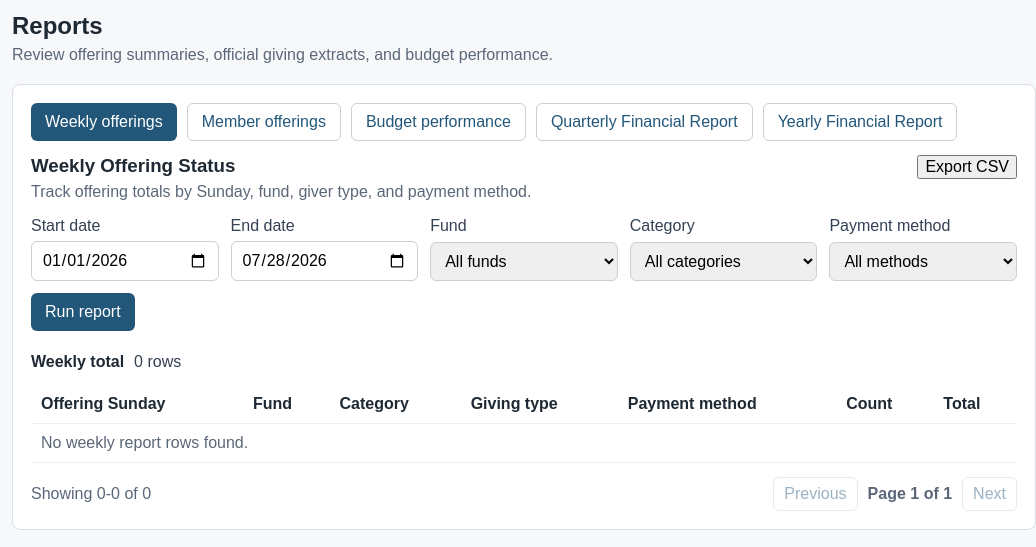
Test: ReportsView › shows quarterly workbook download failures
What coordinates should you click on to do the following:
click the tab "Quarterly Financial Report"
I would click on:
 (644, 122)
Its box is 536,103 -> 753,141.
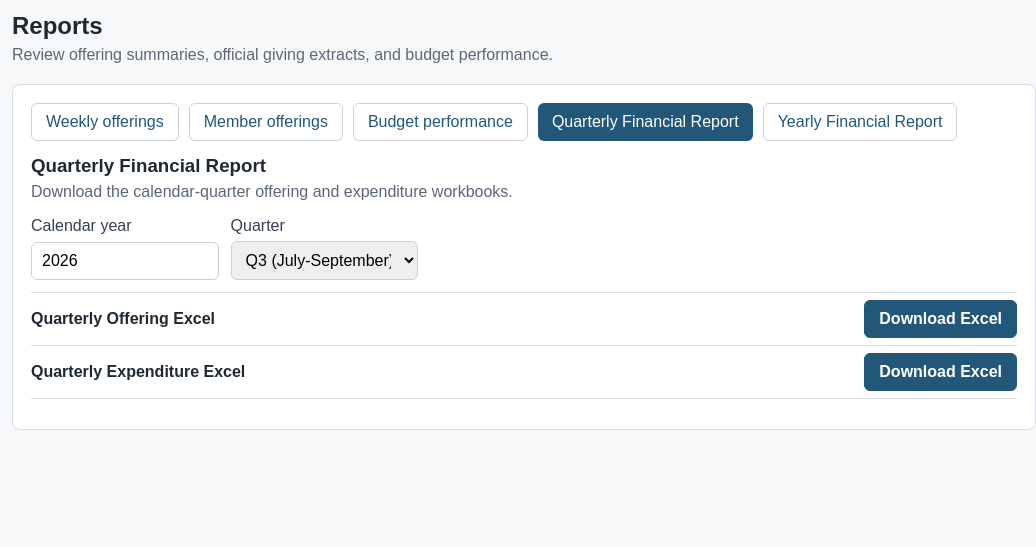
What coordinates should you click on to do the following:
click the button with aria-label "download quarterly offering excel"
I would click on:
 (941, 319)
Its box is 864,300 -> 1017,338.
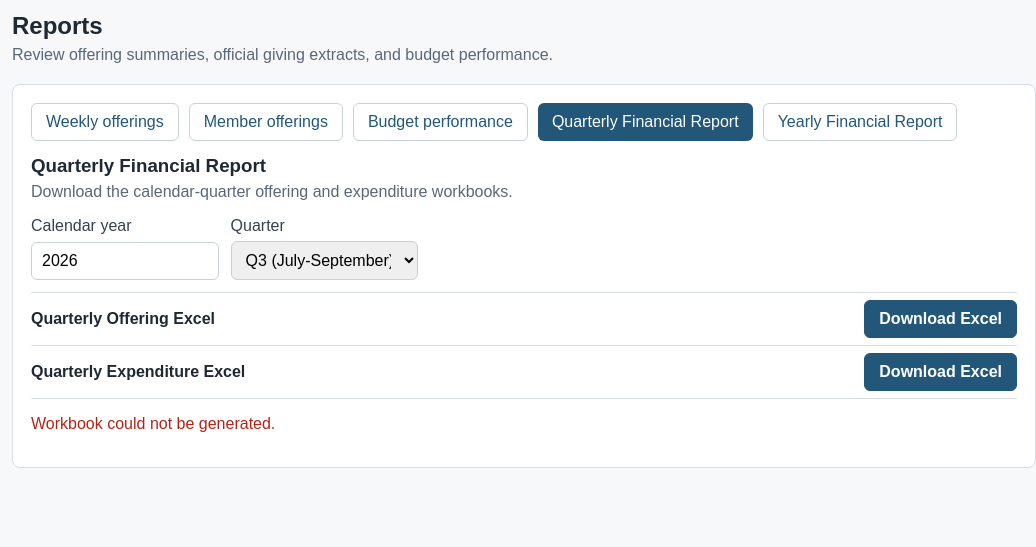
Expected: the text "Workbook could not be generated." is shown, 31,415 -> 275,432
